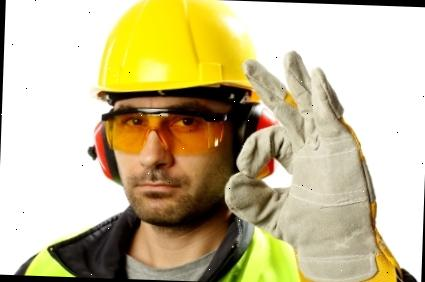helmet: (85, 0, 266, 105)
